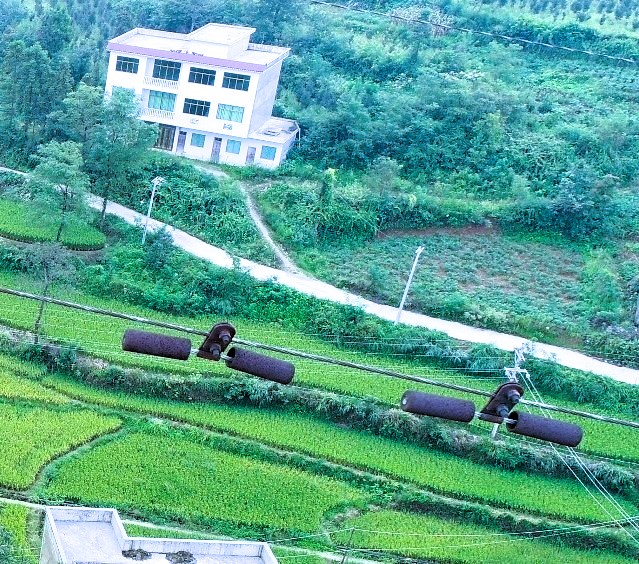Shockproof hammer: (389, 363, 590, 454), (114, 307, 302, 388)
